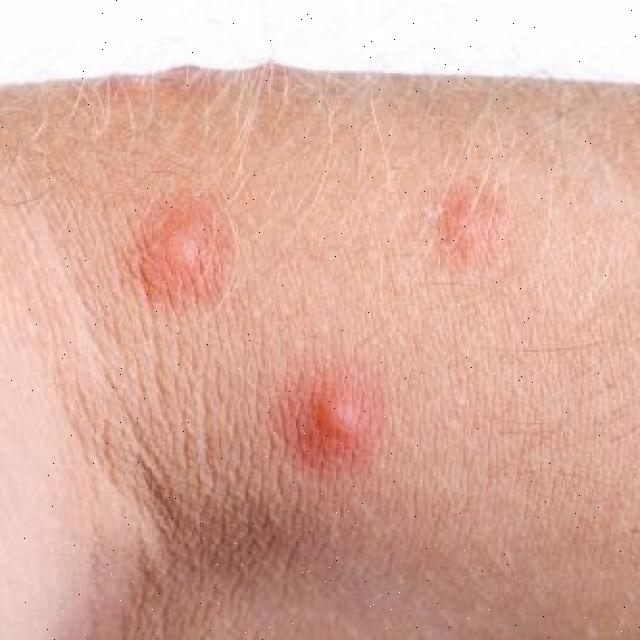kan emici bocekler: (385, 172, 537, 292), (123, 197, 251, 337), (259, 362, 401, 486)
